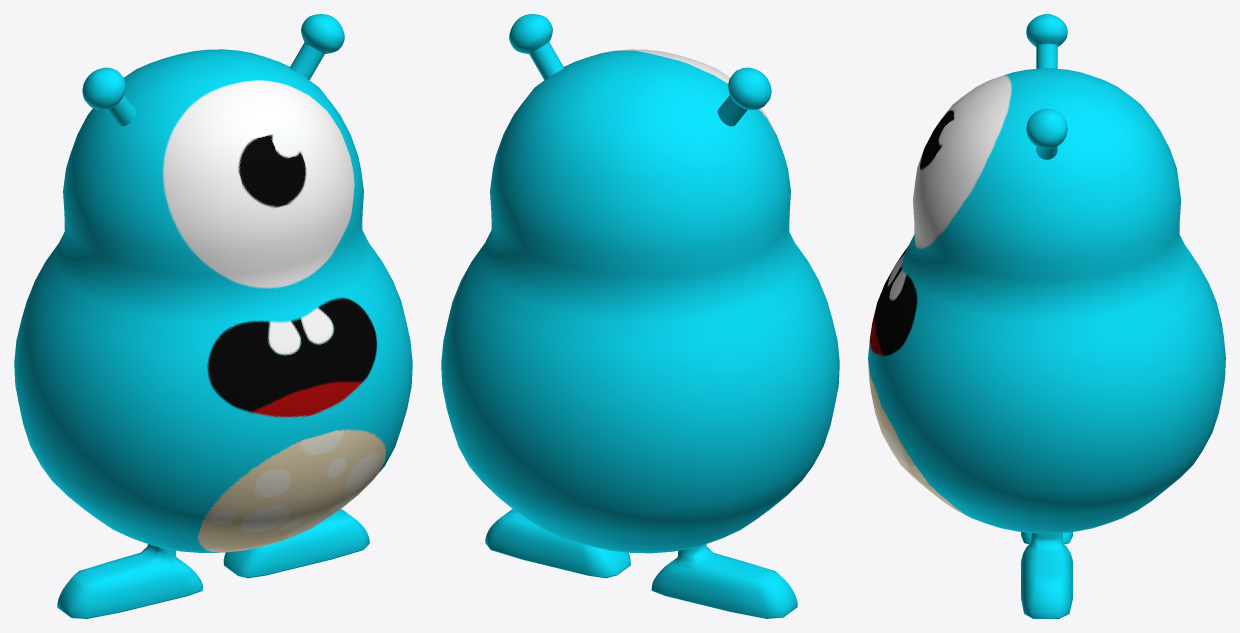
The model's file is monstrinho.fbx.
3 views of the same model, side by side, from view 1: azimuth 30°, elevation 25°; view 2: azimuth 150°, elevation 25°; view 3: azimuth 270°, elevation 25° (orthographic). The views are drawn at different scales.
Visible parts, largest first — view 1: Monstrinho; view 2: Monstrinho; view 3: Monstrinho.
Boxes of the visible parts, bbox=[...] form: Monstrinho: bbox=[14, 14, 412, 618]; Monstrinho: bbox=[441, 14, 839, 618]; Monstrinho: bbox=[868, 14, 1225, 618].
Bounding box in the file's own units: 1.68 × 2.48 × 1.64.
